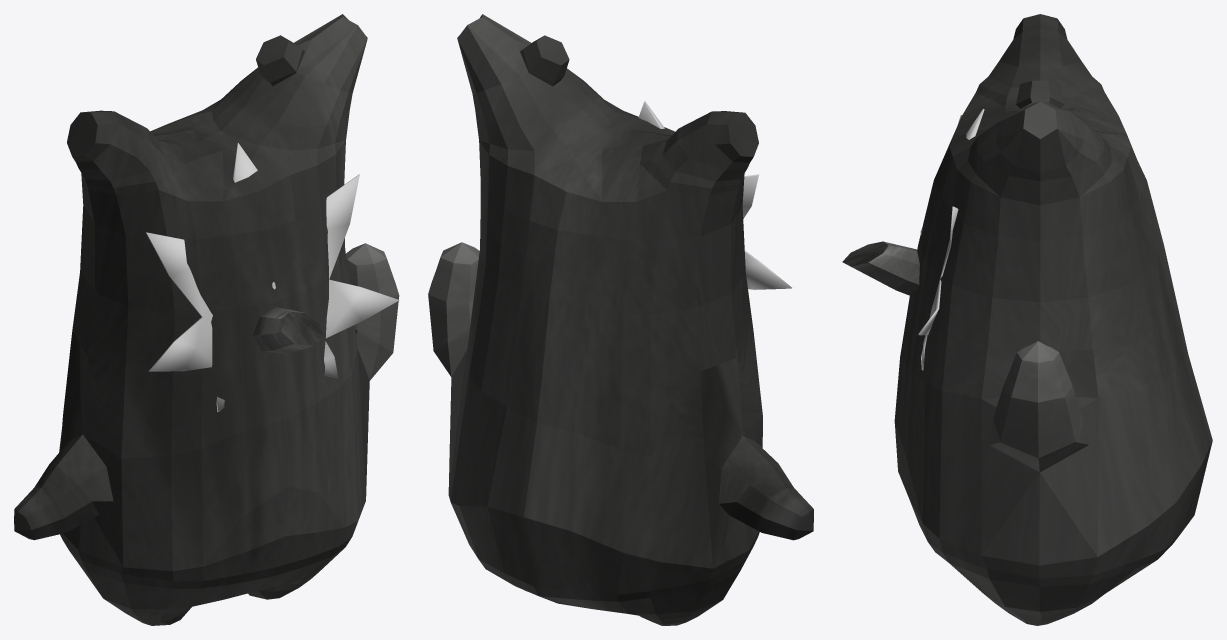
Rendered from frame_0080.obj.
The picture shows the model from 3 angles, left to right: view 1: azimuth 30°, elevation 25°; view 2: azimuth 150°, elevation 25°; view 3: azimuth 270°, elevation 25°; orthographic projection.
Visible parts, largest first — view 1: korok, leaf, nose.003_柱体.011; view 2: korok, leaf; view 3: korok, nose.003_柱体.011, leaf.
Boxes of the visible parts, box(x1,y1,x2,y2) form: korok: box(14, 14, 399, 625); leaf: box(146, 143, 399, 412); nose.003_柱体.011: box(253, 307, 323, 354); korok: box(428, 14, 813, 625); leaf: box(638, 101, 791, 289); korok: box(894, 14, 1212, 625); nose.003_柱体.011: box(842, 241, 919, 297); leaf: box(918, 109, 984, 370).
Bounding box in the file's own units: 1.6 × 2.25 × 1.36.
